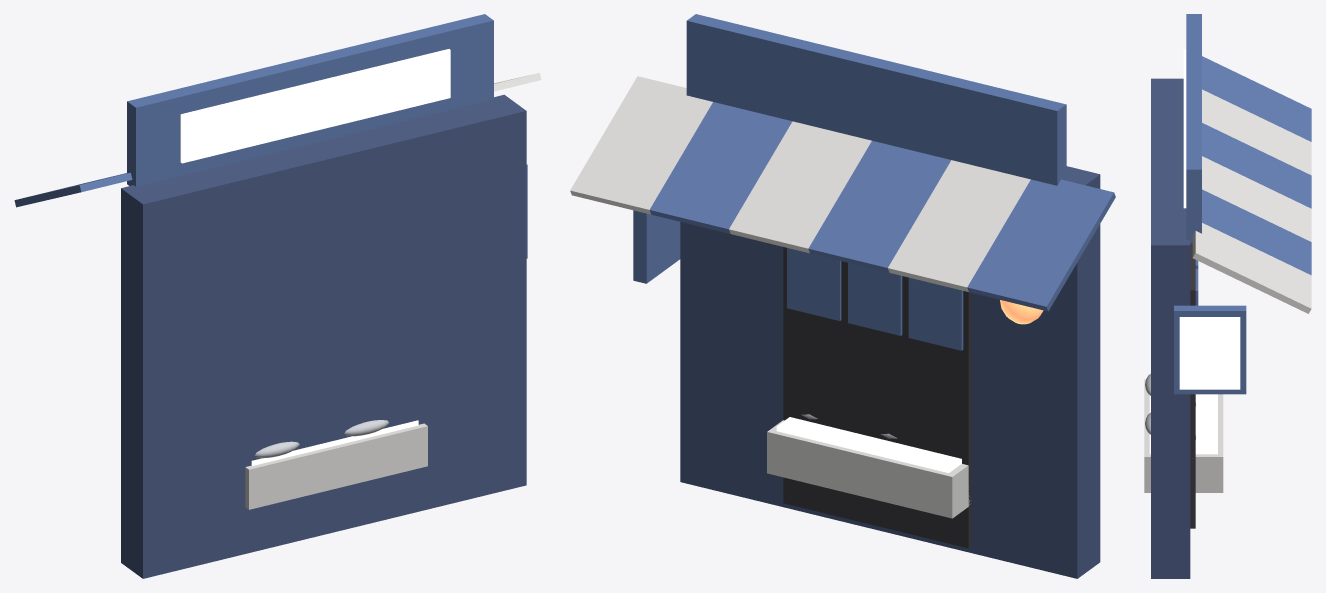
Rendered from prop_mise_sakana.glb.
The picture shows the model from 3 angles, left to right: view 1: azimuth 30°, elevation 25°; view 2: azimuth 150°, elevation 25°; view 3: azimuth 270°, elevation 25°; orthographic projection. The views are drawn at different scales.
Parts seen in each view (by area): view 1: mise_sakana; view 2: mise_sakana; view 3: mise_sakana.
Part boxes in pixels (bbox=[...]): mise_sakana: bbox=[14, 14, 541, 578]; mise_sakana: bbox=[570, 14, 1115, 578]; mise_sakana: bbox=[1144, 14, 1311, 578].
Size of the model in its own units: 3.6 by 3.39 by 1.27.
